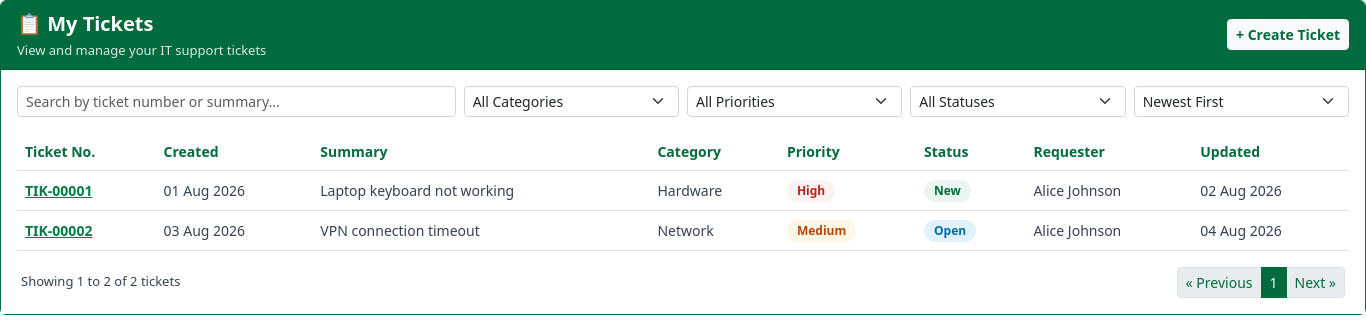
MyTickets Component › should show Clear Filters button in header when filters are active
Expected: the element with test id "desktop-table" is shown, [17,132,1349,250]
Step 1. Type "test" into the field with test id "search-input" → (236, 101), box [17,86,456,116]
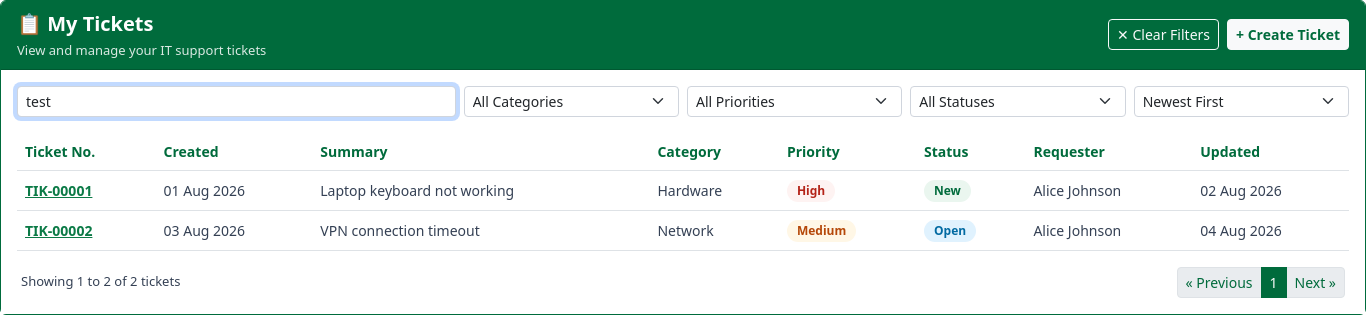
Now the button with test id "clear-filters-btn" is shown, box [1108,19,1219,50]
